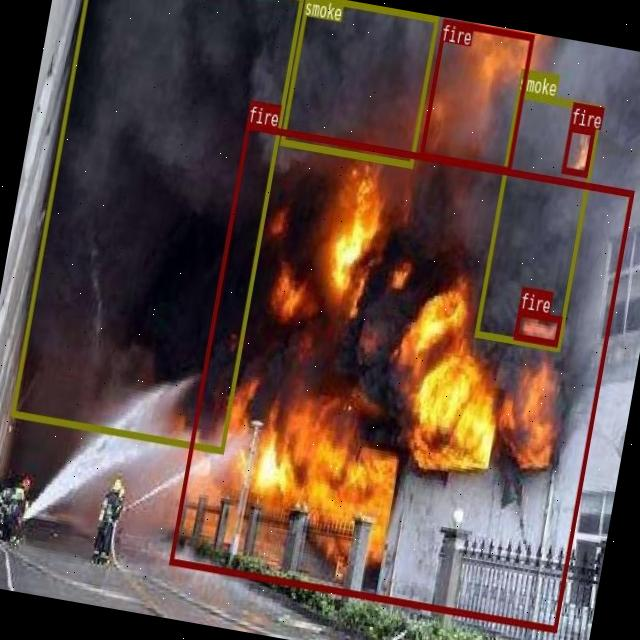fire: (168, 122, 634, 630), (418, 17, 534, 172), (512, 307, 562, 345), (560, 124, 594, 175)
smoke: (9, 0, 303, 453), (474, 90, 602, 349), (279, 0, 437, 165)
